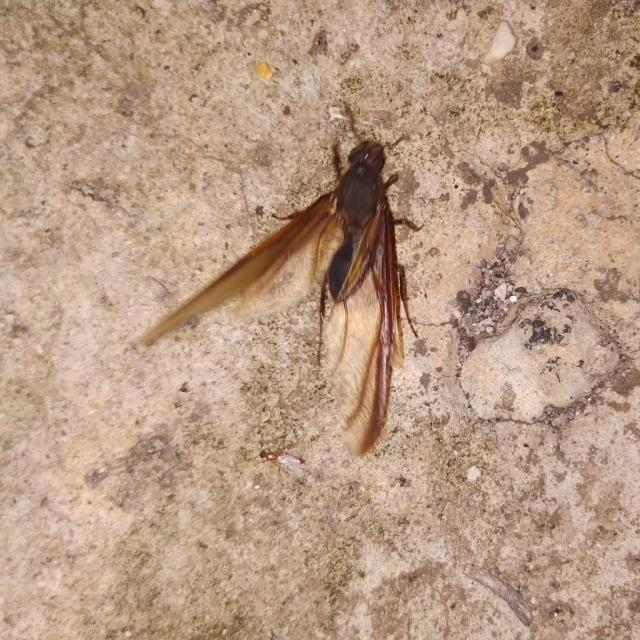Alive-Female-Alate: (138, 105, 424, 458)
